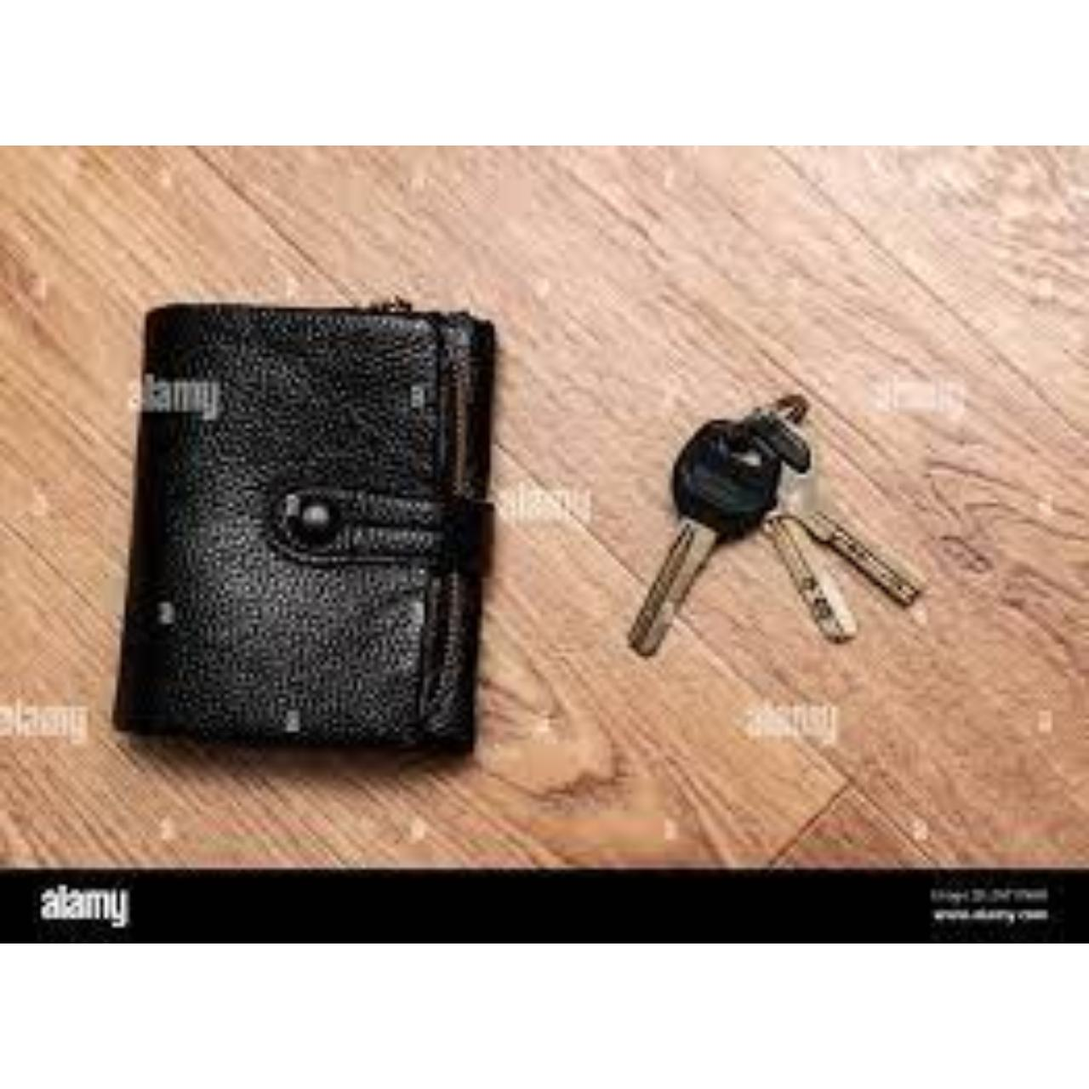wallet: (96, 245, 553, 810)
